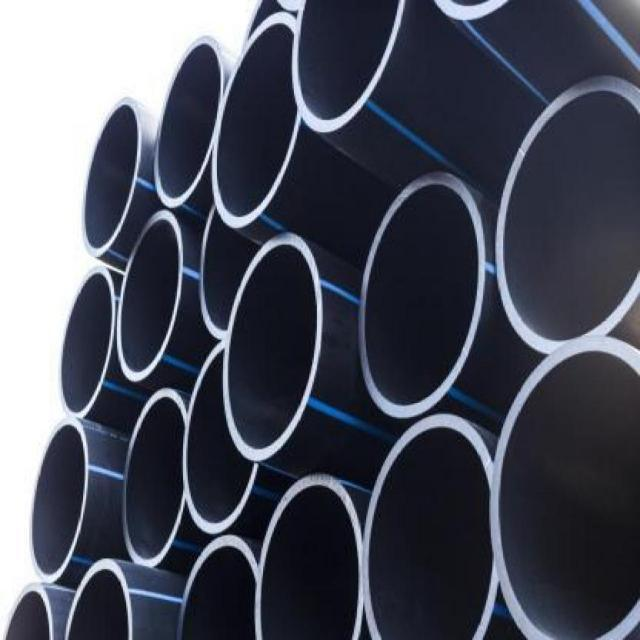pipe: (489, 330, 640, 640), (492, 70, 640, 360), (356, 168, 494, 427), (359, 414, 496, 639), (219, 225, 328, 466), (206, 13, 306, 229), (256, 472, 361, 640), (289, 0, 412, 132), (181, 344, 258, 538), (118, 380, 189, 573), (154, 37, 225, 211), (117, 207, 188, 381), (75, 94, 146, 261), (28, 418, 96, 581), (56, 266, 121, 422), (176, 530, 263, 640), (65, 557, 139, 640), (2, 589, 52, 640)
